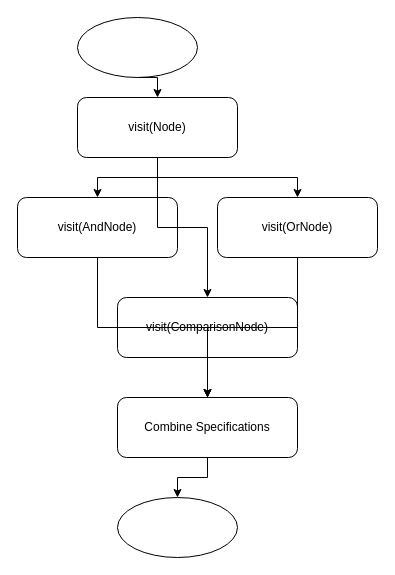
This 395x575 diagram has some shape labels left out. Each missing label, with the box of its shape:
Return Specification: (116, 496, 238, 558)
Start: RSQL Query AST: (76, 16, 198, 78)
